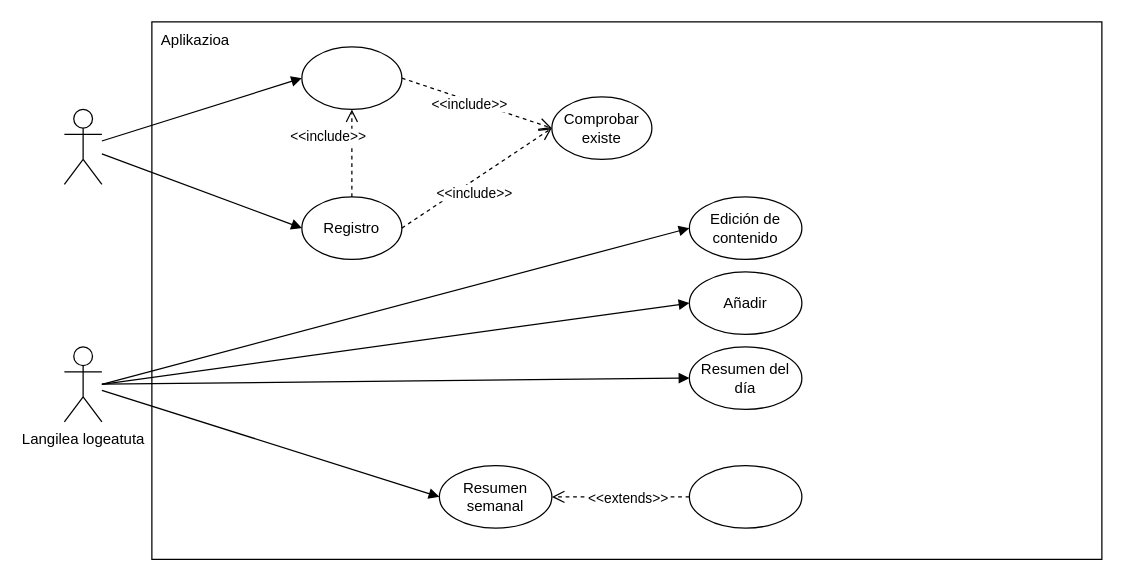
Some shapes in this 1124 by 581 pixel diagram are drawn without their labels. The centre of each missing label's shape, as x and y in pixels:
"Langilea" belongs at point 82,146.
"Login" belongs at point 351,77.
"Película" belongs at point 745,496.
